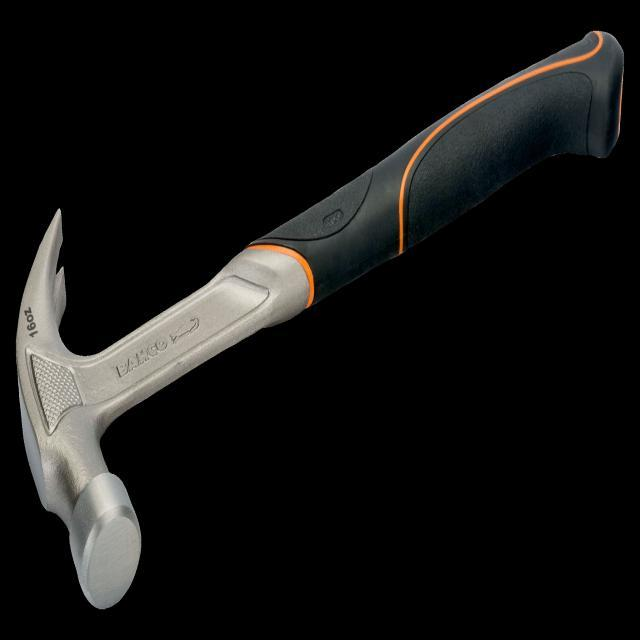hammer: (13, 20, 628, 613)
